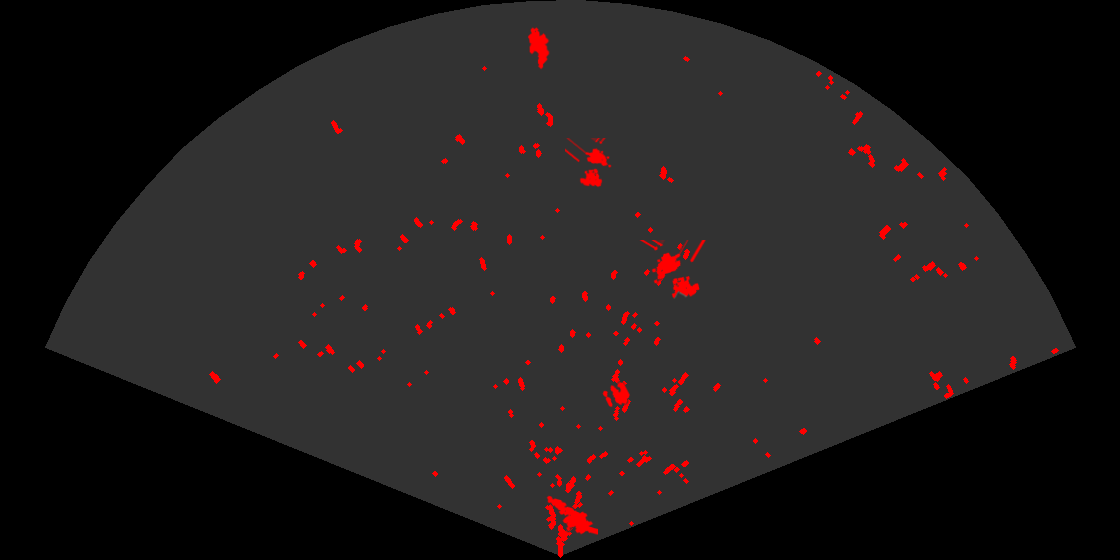AUV: (526, 26, 550, 71)
ball: (601, 380, 632, 409)
cage: (638, 240, 707, 300), (565, 138, 613, 189)
frogman: (545, 494, 598, 536)
